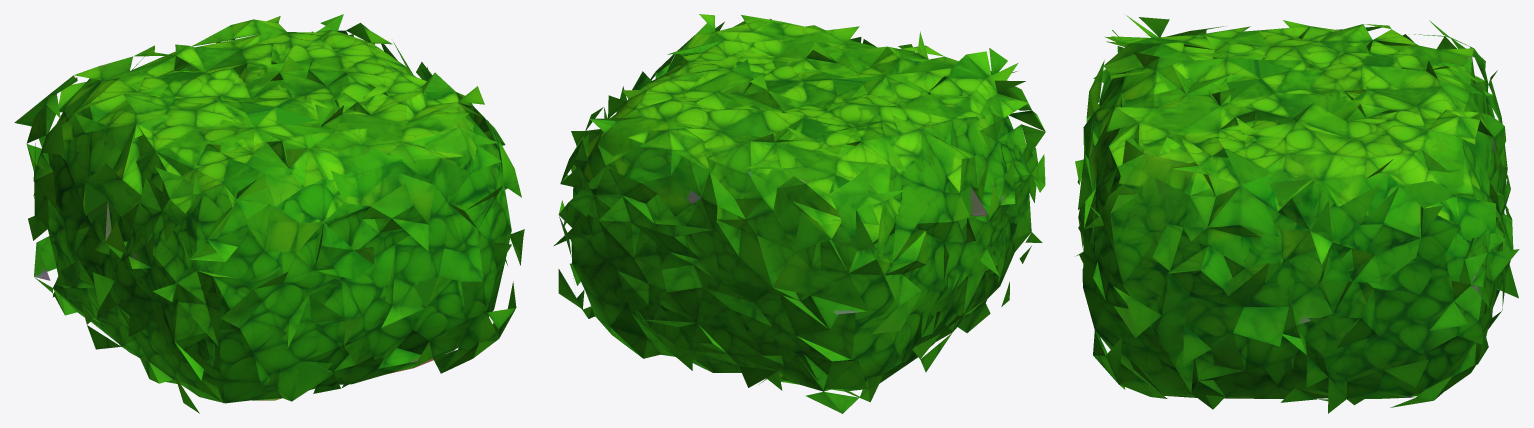
File: hedge-block.glb
3 renders of one model, left to right at view 1: azimuth 30°, elevation 25°; view 2: azimuth 150°, elevation 25°; view 3: azimuth 270°, elevation 25°, orthographic. The views are drawn at different scales.
Size of the model in its own units: 1.82 by 1.15 by 1.75.
Materials: 1 (1 with a texture image).
